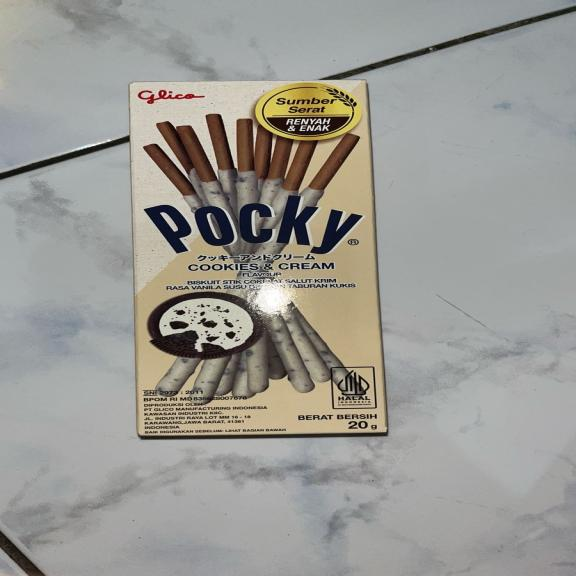Kertas: (124, 79, 380, 444)
